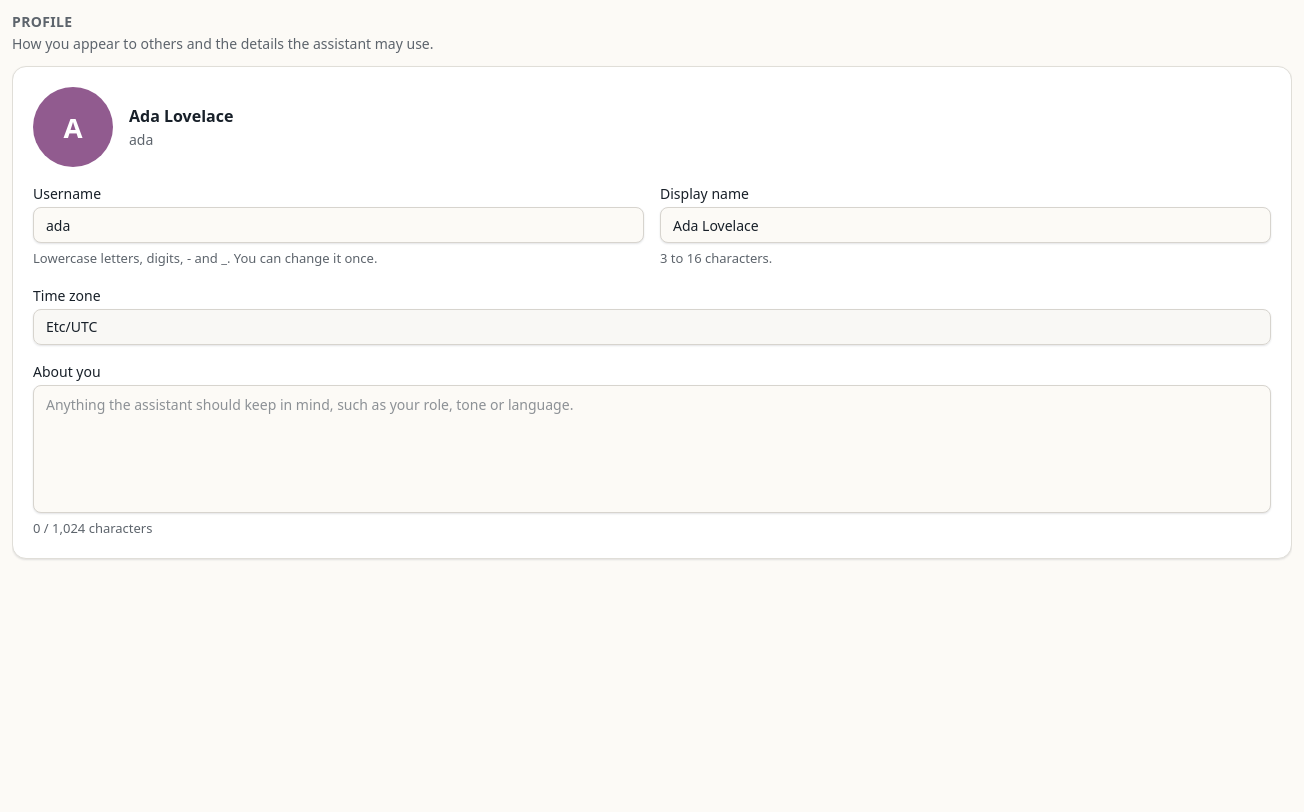
ProfileSection save › shows Reset and Save only after an edit
This screenshot has width=1304, height=812.
expect the button "Save" is not shown: met
Type "x" into the field labelled "Display name".
click(966, 225); type("x")  # box [660,207,1271,243]
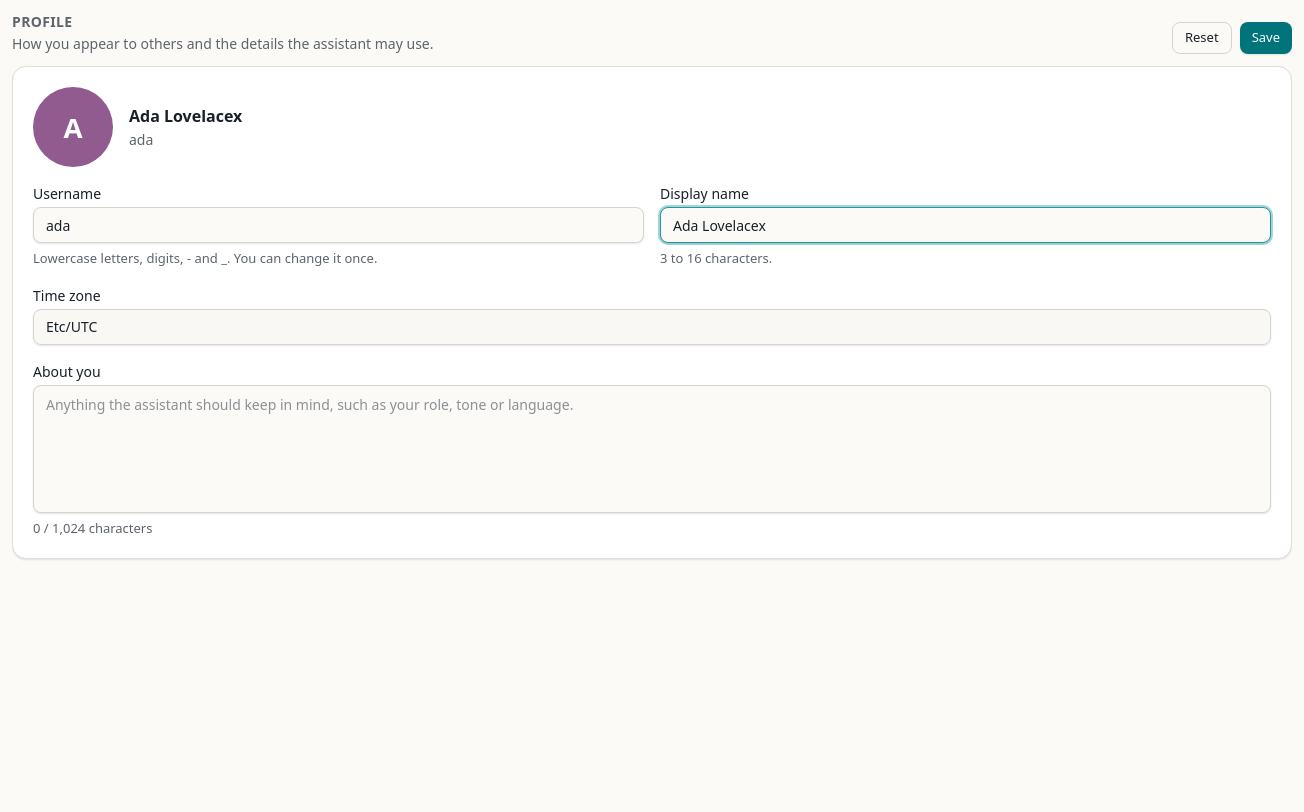
expect the button "Save" is shown: met, box [1240,22,1292,54]
Click the button "Reset".
click(1202, 38)  # box [1172,22,1232,54]
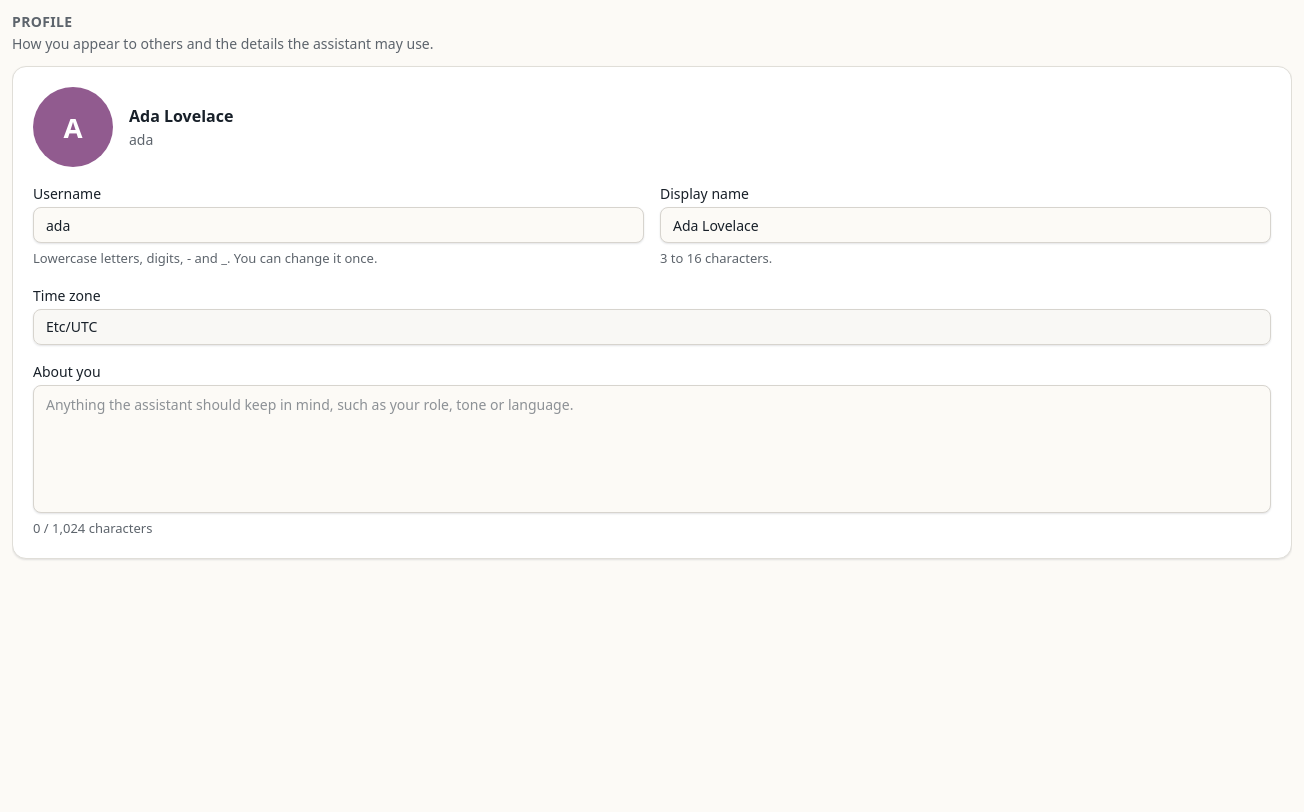
expect the field labelled "Display name" holds "Ada Lovelace": met, box [660,207,1271,243]
expect the button "Save" is gone: met
